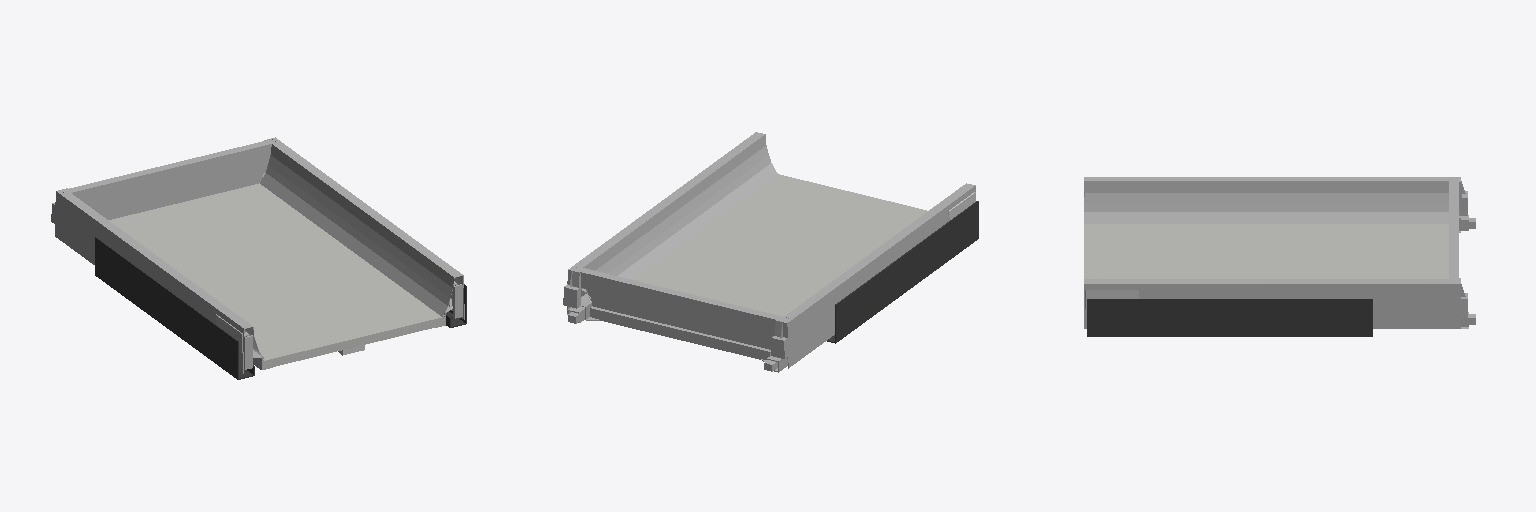
Rendered from IKEA.ART.60221447.obj.
3 renders of one model, left to right at view 1: azimuth 30°, elevation 25°; view 2: azimuth 150°, elevation 25°; view 3: azimuth 270°, elevation 25°, orthographic.
Parts seen in each view (by area): view 1: model_model.009; view 2: model_model.009; view 3: model_model.009.
Part boxes in pixels (x1,y1,x2,y2): model_model.009: (51,137,466,379); model_model.009: (563,132,978,372); model_model.009: (1084,177,1475,336).
Size of the model in its own units: 0.3648 by 0.0782 by 0.5411.